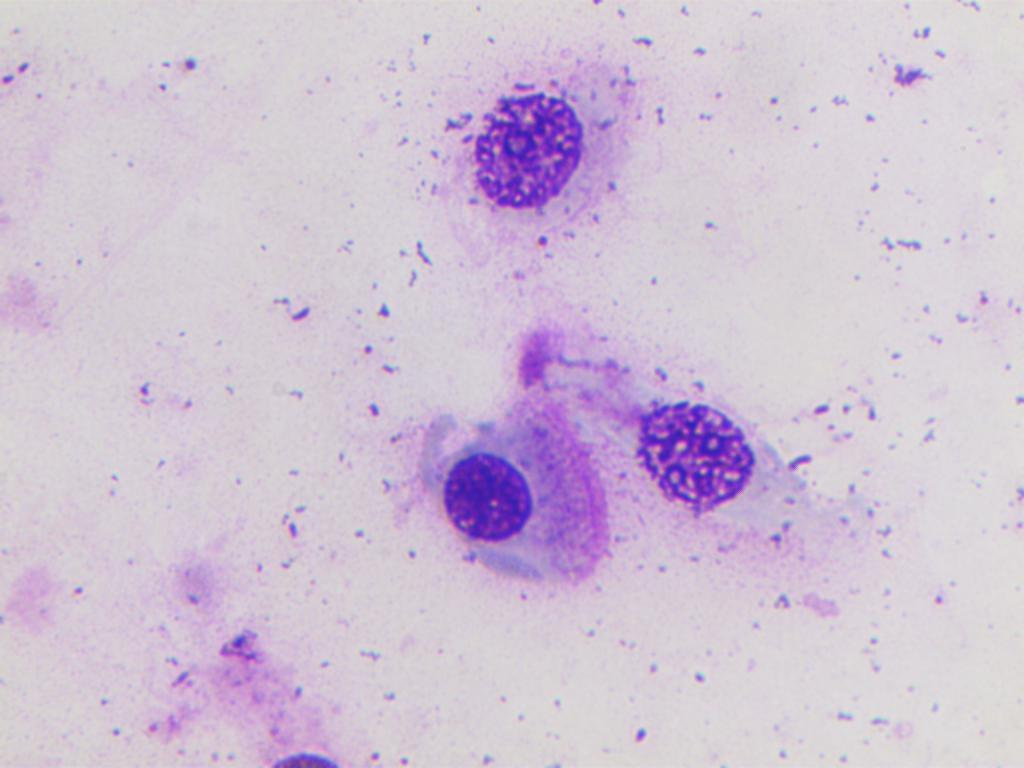epithelial: (412, 44, 645, 261), (619, 375, 771, 544), (415, 438, 552, 556)
